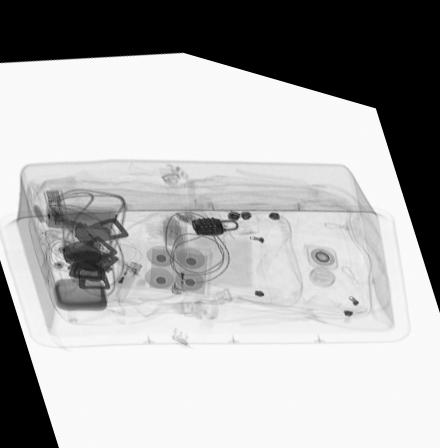Lighter: (106, 252, 143, 296)
